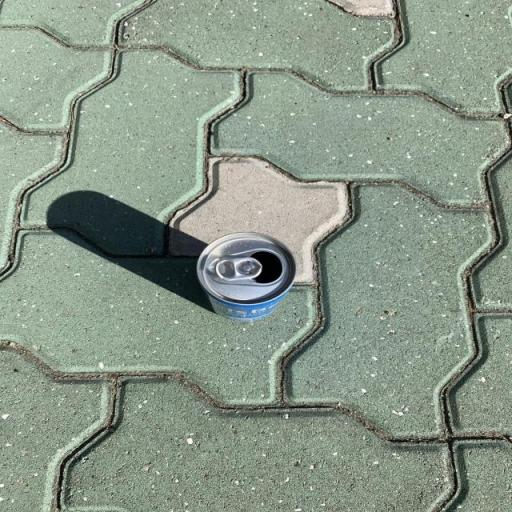metal: (183, 218, 346, 356)
